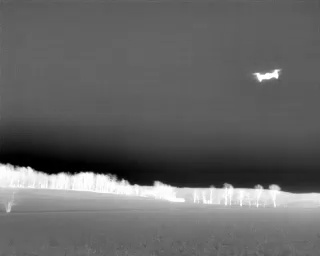DRONE: (249, 64, 286, 87)
